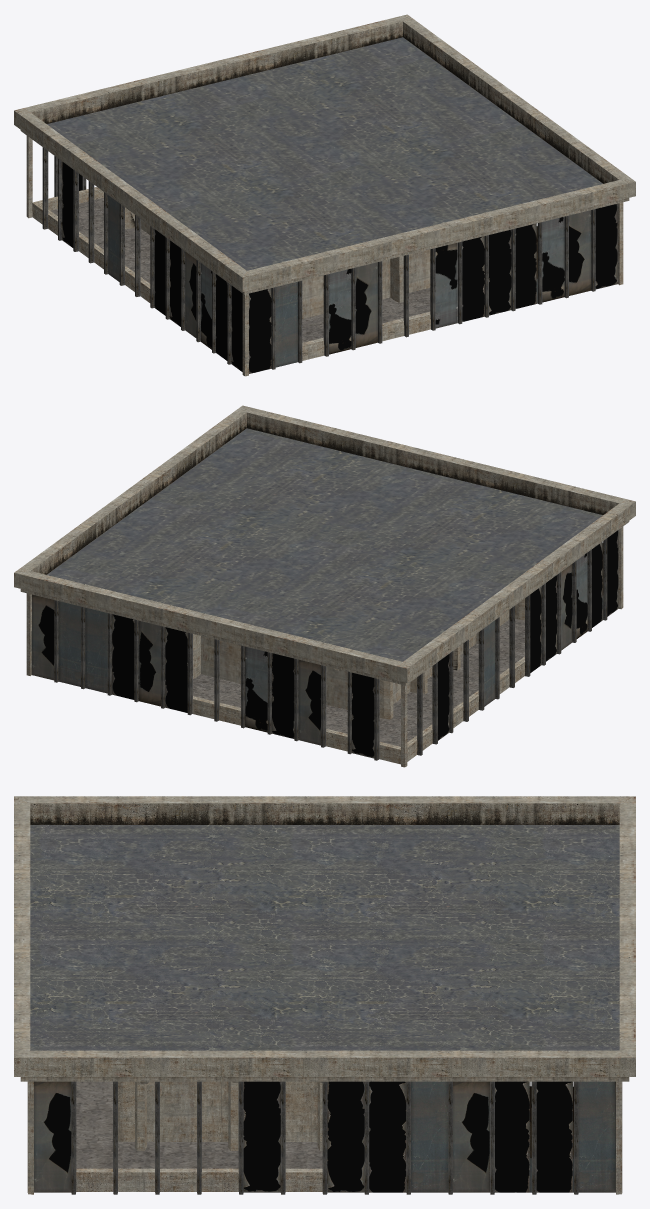
File: Build2_el5.fbx
3 views of the same model, one above another, from view 1: azimuth 30°, elevation 25°; view 2: azimuth 150°, elevation 25°; view 3: azimuth 270°, elevation 25° (orthographic). The views are drawn at different scales.
Parts seen in each view (by area): view 1: roof; view 2: roof; view 3: roof.
Part boxes in pixels (<box>): roof: <box>14,14,635,376</box>; roof: <box>14,405,635,767</box>; roof: <box>14,796,635,1194</box>.
Bounding box in the file's own units: 37.05 × 9.39 × 37.3.
